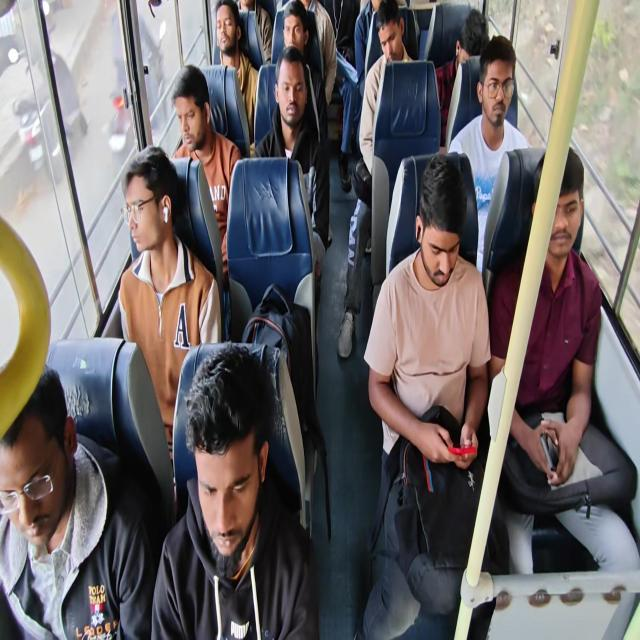person: (1, 1, 638, 638), (361, 152, 508, 638), (487, 146, 639, 575), (150, 343, 320, 639), (0, 365, 156, 639), (118, 145, 222, 480), (336, 0, 416, 358), (447, 34, 531, 274), (251, 45, 331, 278), (170, 63, 242, 279), (357, 0, 415, 176), (434, 8, 490, 144), (280, 0, 328, 145), (212, 0, 259, 144), (353, 0, 383, 168), (298, 0, 337, 105), (238, 0, 274, 64)
